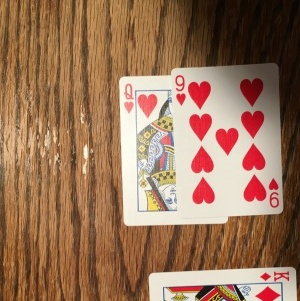card: (171, 61, 284, 215), (119, 76, 180, 225)
